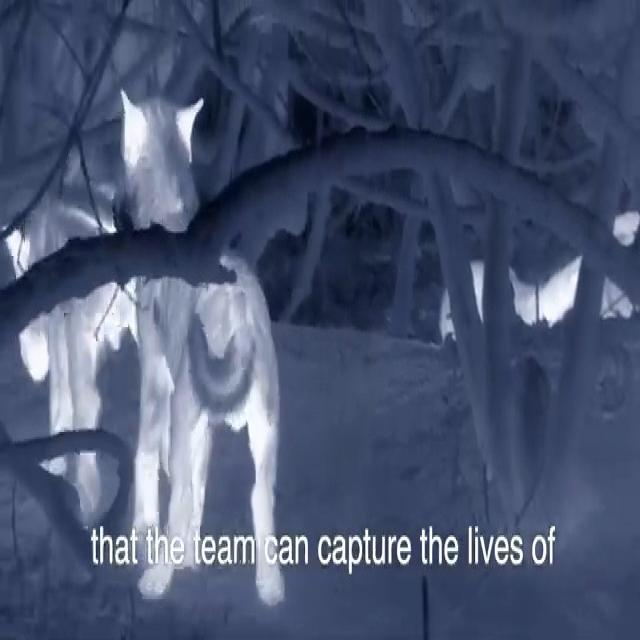animal: (1, 91, 351, 640), (424, 171, 640, 410)
